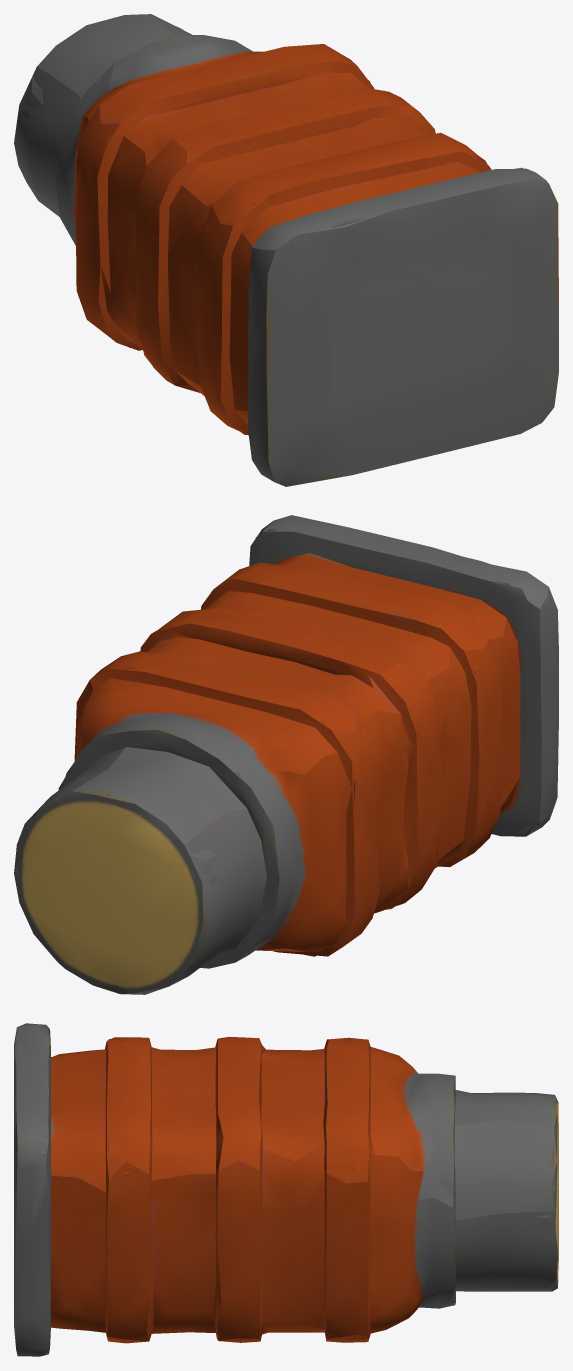
The model's file is mining_laser_mk1.glb.
3 views of the same model, one above another, from view 1: azimuth 30°, elevation 25°; view 2: azimuth 150°, elevation 25°; view 3: azimuth 270°, elevation 25° (orthographic). The views are drawn at different scales.
Parts seen in each view (by area): view 1: prop; view 2: prop; view 3: prop.
Part boxes in pixels (left/top/right/bottom): prop: left=14, top=14, right=558, bottom=486; prop: left=14, top=515, right=558, bottom=994; prop: left=14, top=1023, right=558, bottom=1356.
Bounding box in the file's own units: 0.7845 × 0.6535 × 1.4.
1 material, 1 textured.
